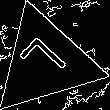L_SE: (16, 34, 75, 91)
